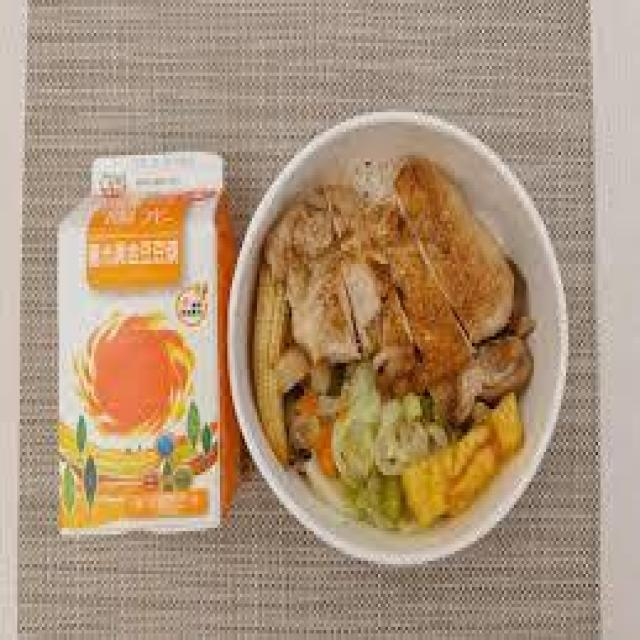TongYi_SoyMilk: (59, 147, 230, 523)
